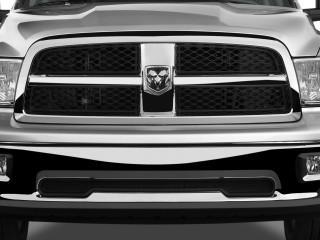ram: (140, 61, 178, 96)
